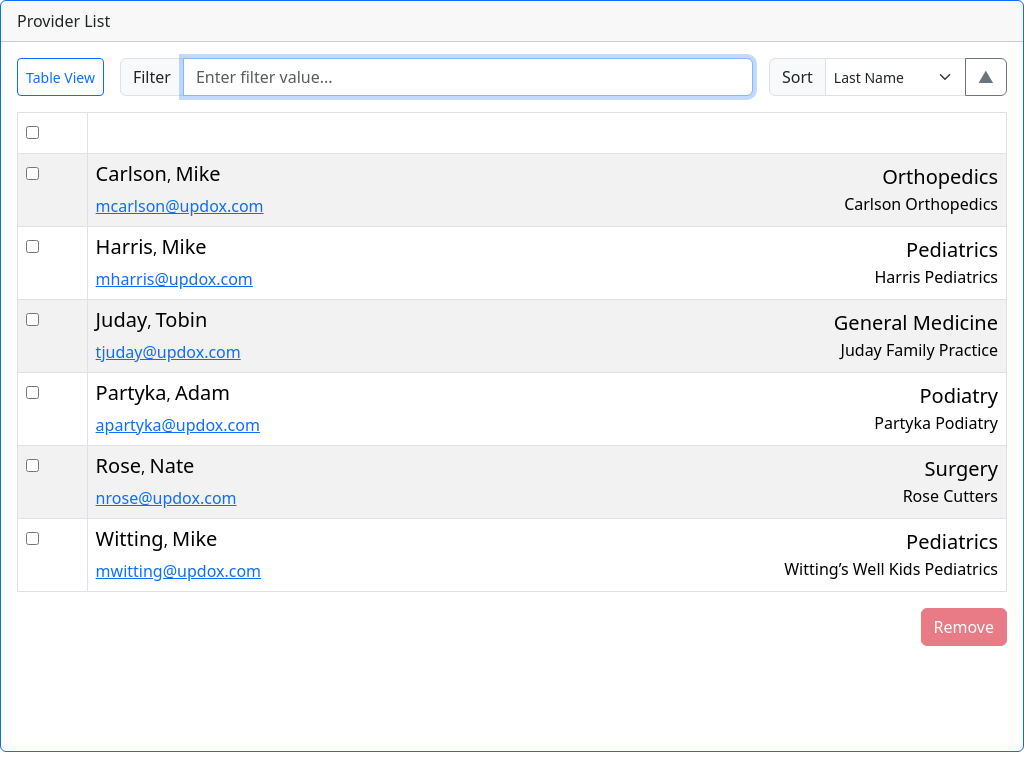
Scenario: ProviderList › filters table rows based on input
The width and height of the screenshot is (1024, 768).
Switch to table view
Click the button with test id "toggle-view-btn" at (60, 77), box [17,58,104,96]
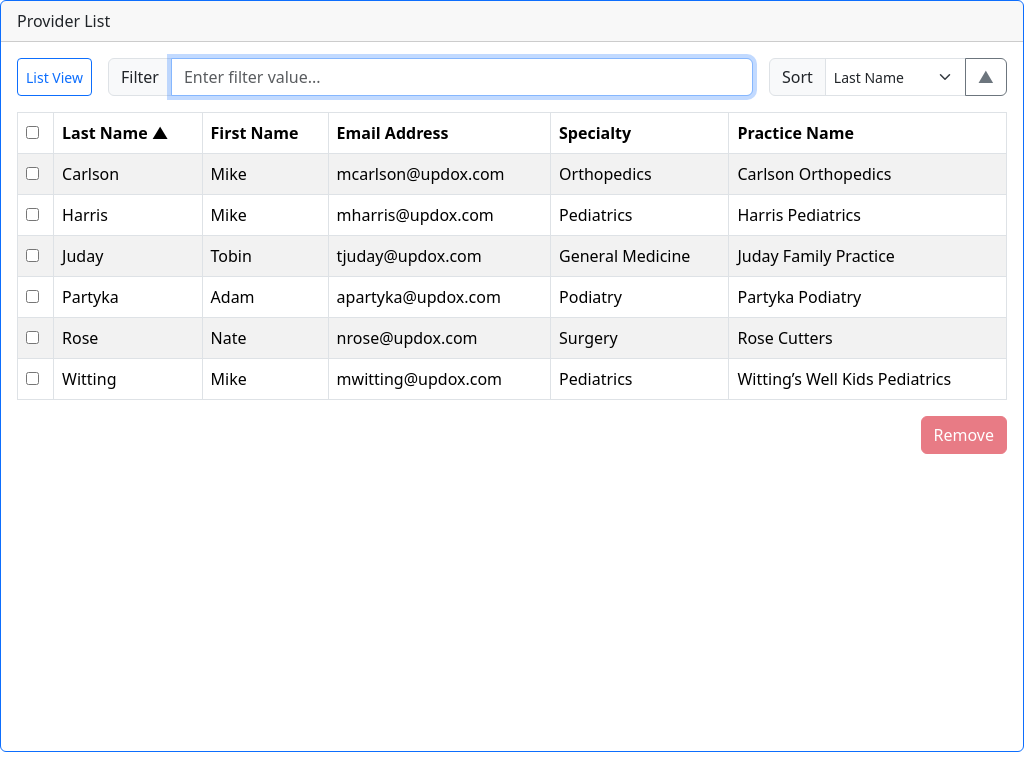
Expected: the text "Nate" is shown, [202,318,328,358]
Filter by first name 'Mike'
Type "Mike" into the field with test id "regex-input" at (462, 77), box [171,58,753,96]
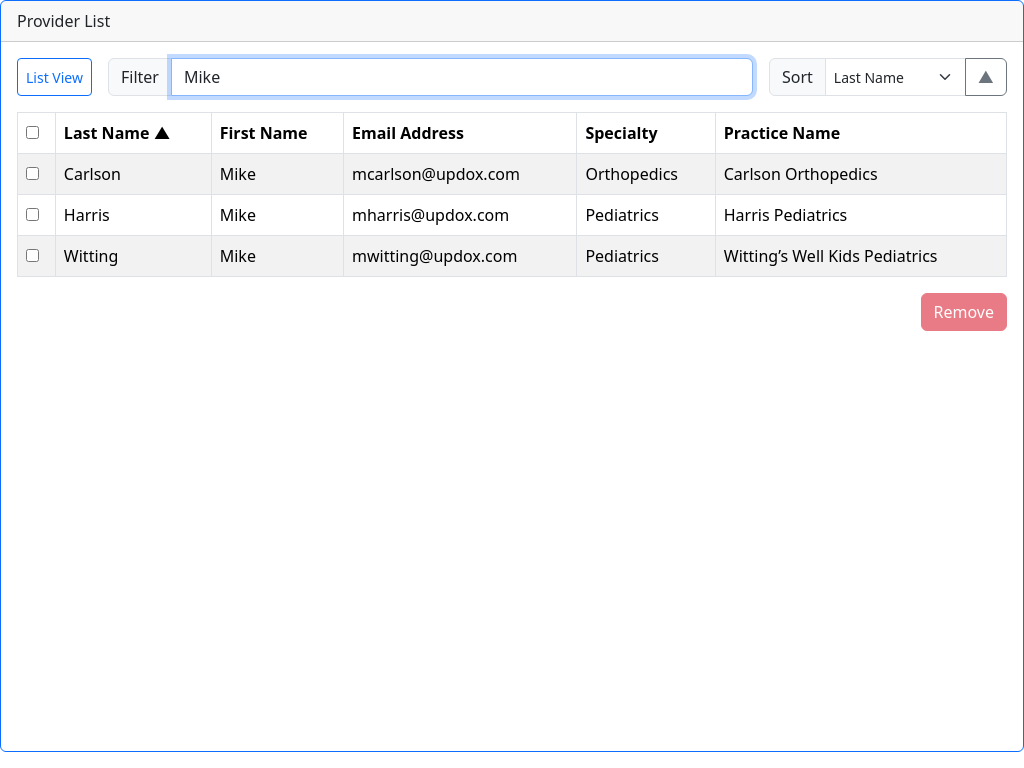
Expected: the text "Mike" next to "mcarlson@updox.com" is shown, [220,163,256,185]
Result: the text "Nate" is gone
